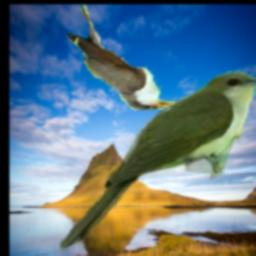Cuckoo: (60, 70, 256, 252), (65, 5, 179, 110)
